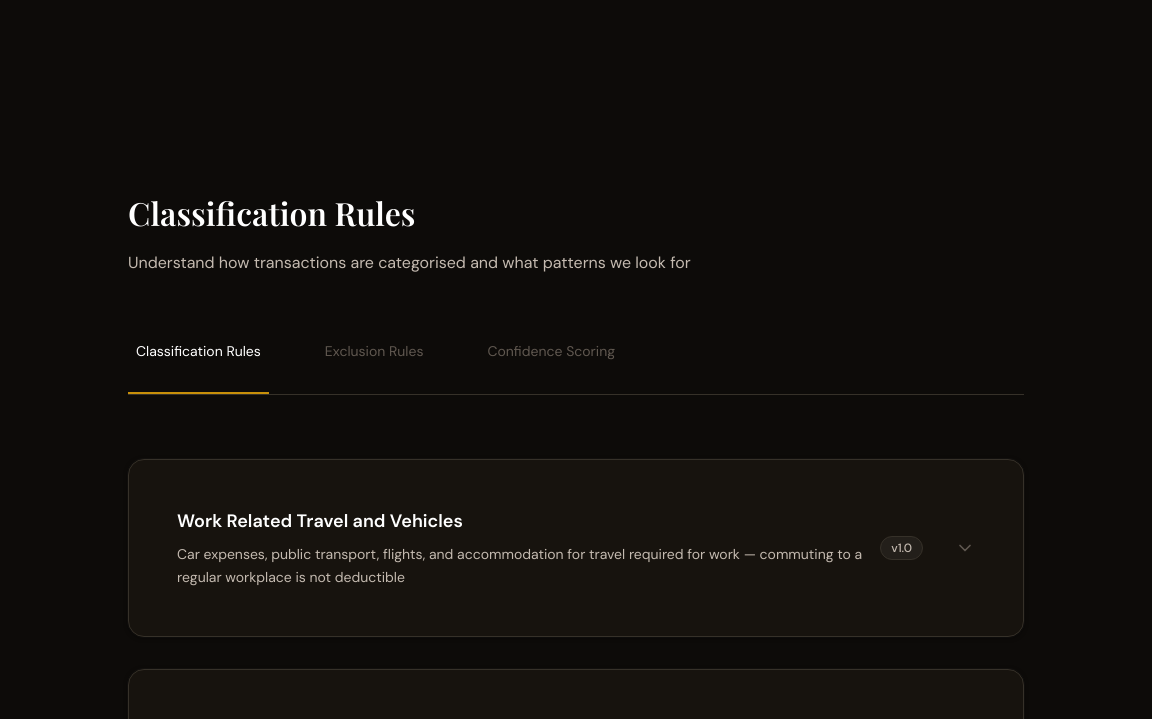
Test: Rules Page › displays matching examples when a rule is expanded
Click the button "Work Related Travel and Vehicles" at coordinates (576, 548), box [177,508,975,588]
(page scrolled)
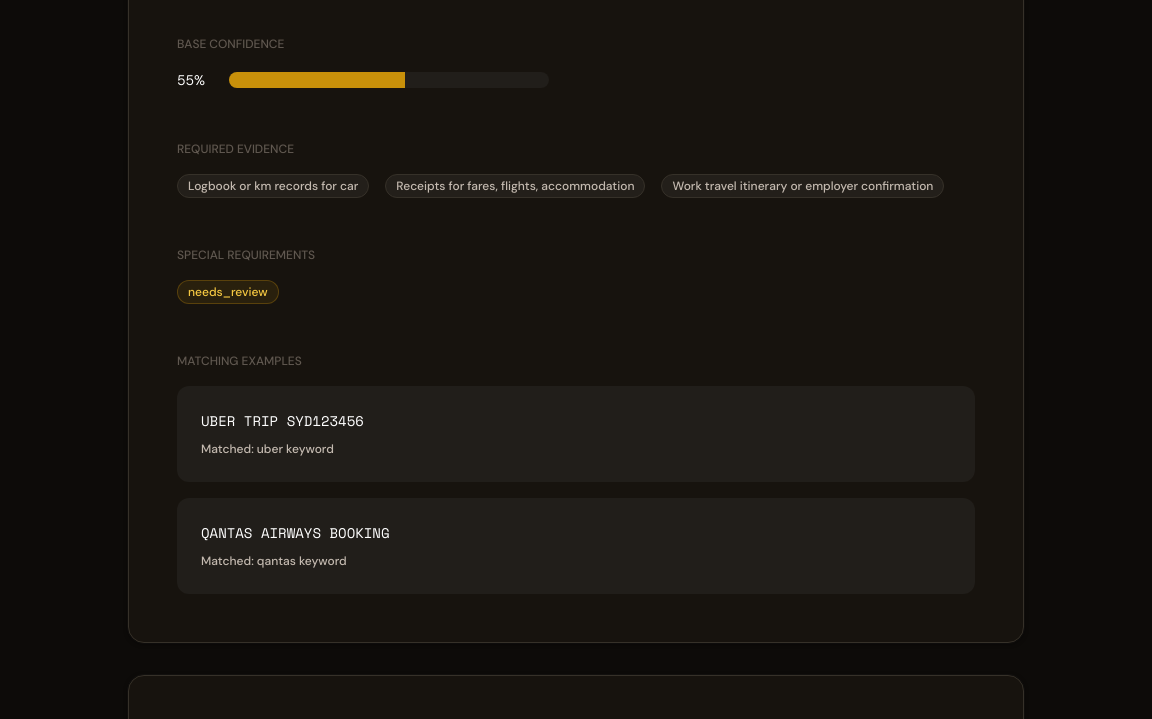
Now the text "MATCHING EXAMPLES" is shown, box [177,352,302,368]
